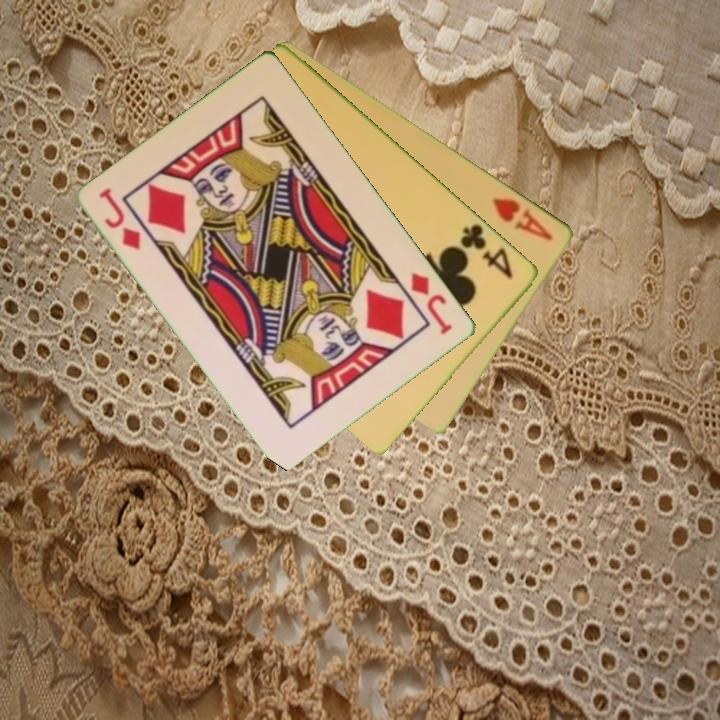4c: (457, 220, 517, 282)
Ah: (489, 194, 557, 244)
Jd: (95, 184, 145, 253), (407, 268, 456, 338)
